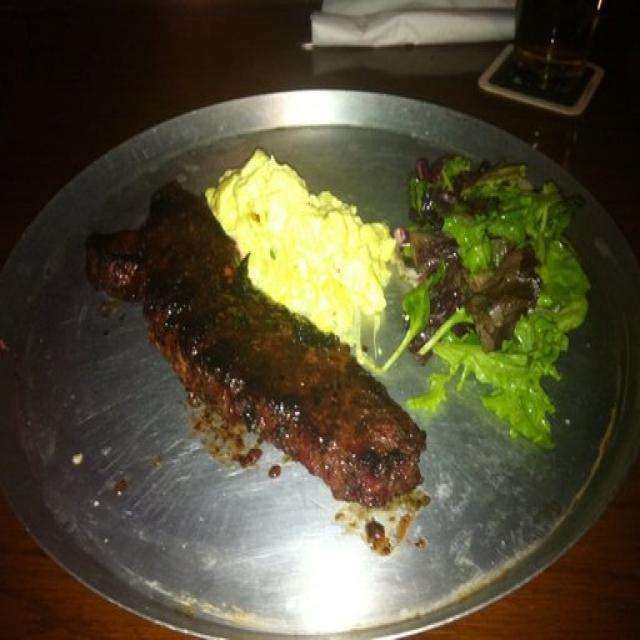Steak: (113, 184, 439, 552)
